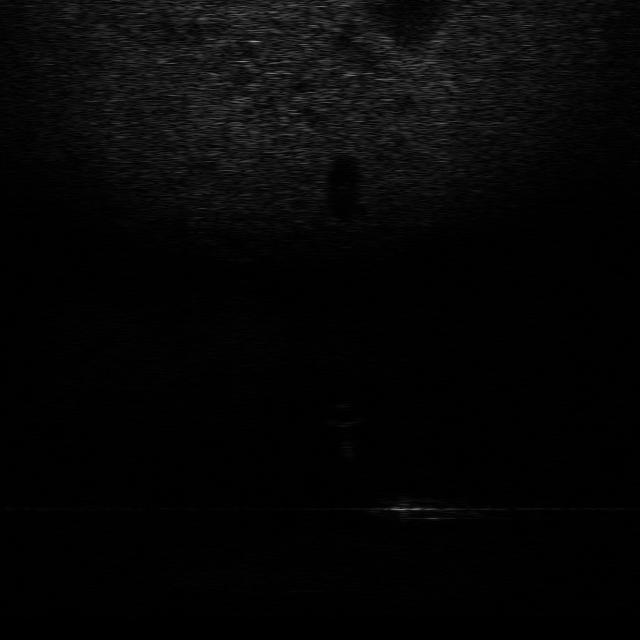ball: (318, 399, 372, 428)
tyre: (370, 493, 484, 522)
